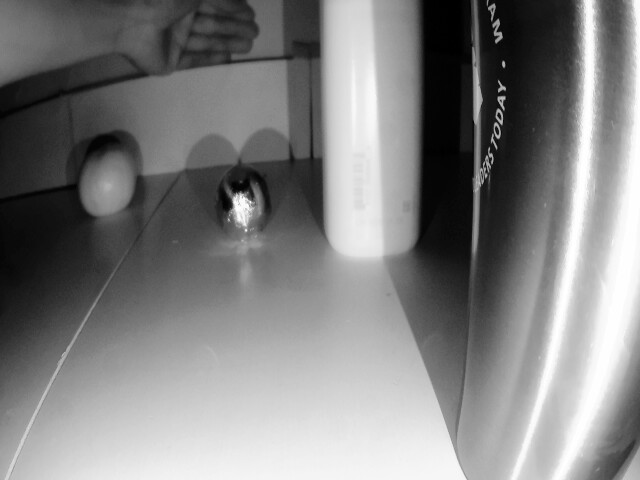silver: (208, 160, 276, 242)
